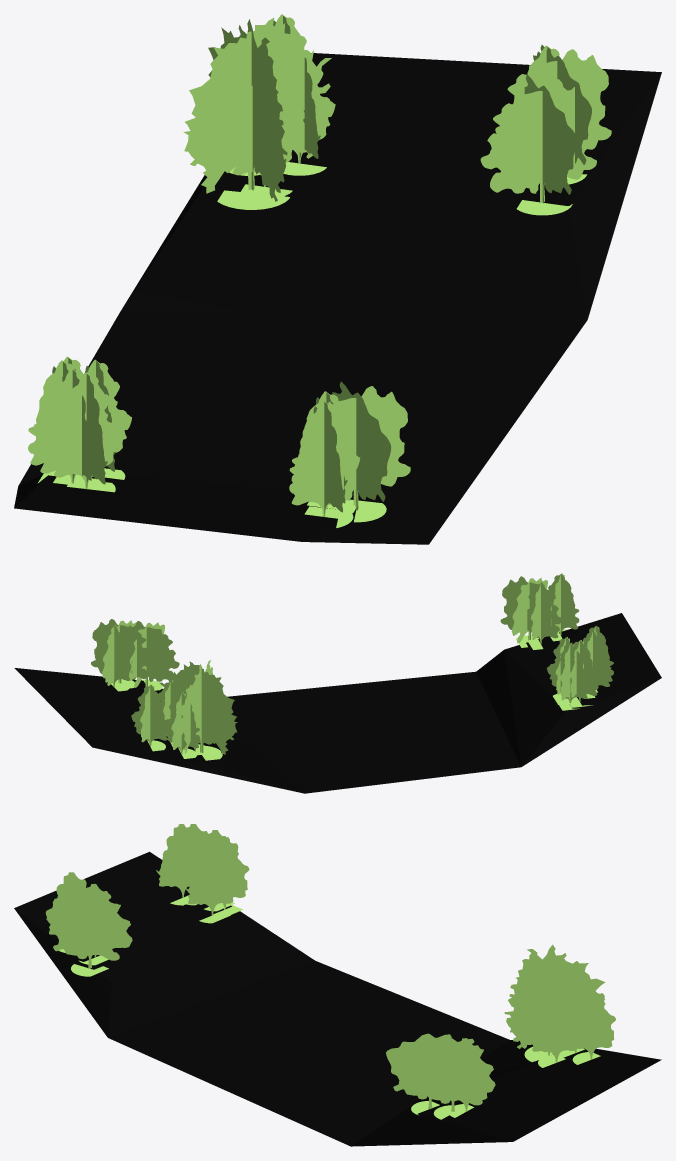
Rendered from bridge3_environment.obj.
The picture shows the model from 3 angles, top to bottom: view 1: azimuth 30°, elevation 25°; view 2: azimuth 150°, elevation 25°; view 3: azimuth 270°, elevation 25°; orthographic projection. The views are drawn at different scales.
Parts seen in each view (by area): view 1: mesh_0, mesh_16, mesh_14, mesh_11, mesh_12, mesh_1, mesh_15, mesh_8, mesh_3, mesh_7, mesh_5, mesh_4; view 2: mesh_0, mesh_16, mesh_14, mesh_15, mesh_11, mesh_10, mesh_6, mesh_2, mesh_13, mesh_9, mesh_12, mesh_4 (+3 smaller); view 3: mesh_0, mesh_11, mesh_16, mesh_10, mesh_13, mesh_5, mesh_15, mesh_7, mesh_1, mesh_14, mesh_2, mesh_8 (+2 smaller).
Boxes of the visible parts, x1=… form: mesh_0: x1=14, y1=53, x2=661, y2=544; mesh_16: x1=183, y1=17, x2=331, y2=209; mesh_14: x1=480, y1=74, x2=596, y2=215; mesh_11: x1=294, y1=381, x2=410, y2=522; mesh_12: x1=289, y1=400, x2=360, y2=527; mesh_1: x1=51, y1=372, x2=122, y2=492; mesh_15: x1=495, y1=45, x2=611, y2=184; mesh_8: x1=230, y1=74, x2=301, y2=199; mesh_3: x1=38, y1=368, x2=100, y2=484; mesh_7: x1=283, y1=50, x2=335, y2=175; mesh_5: x1=85, y1=359, x2=131, y2=479; mesh_4: x1=28, y1=360, x2=91, y2=482; mesh_0: x1=14, y1=613, x2=661, y2=793; mesh_16: x1=159, y1=660, x2=237, y2=760; mesh_14: x1=129, y1=621, x2=179, y2=690; mesh_15: x1=91, y1=619, x2=152, y2=688; mesh_11: x1=500, y1=576, x2=562, y2=647; mesh_10: x1=131, y1=684, x2=168, y2=751; mesh_6: x1=527, y1=582, x2=559, y2=649; mesh_2: x1=551, y1=643, x2=588, y2=710; mesh_13: x1=95, y1=625, x2=132, y2=691; mesh_9: x1=164, y1=692, x2=200, y2=758; mesh_12: x1=548, y1=573, x2=579, y2=641; mesh_4: x1=567, y1=640, x2=598, y2=707; mesh_0: x1=14, y1=851, x2=661, y2=1146; mesh_11: x1=45, y1=893, x2=132, y2=976; mesh_16: x1=504, y1=944, x2=605, y2=1062; mesh_10: x1=564, y1=986, x2=615, y2=1064; mesh_13: x1=439, y1=1038, x2=490, y2=1117; mesh_5: x1=185, y1=842, x2=236, y2=923; mesh_15: x1=408, y1=1038, x2=495, y2=1119; mesh_7: x1=530, y1=989, x2=577, y2=1067; mesh_1: x1=156, y1=824, x2=201, y2=905; mesh_14: x1=386, y1=1033, x2=451, y2=1115; mesh_2: x1=212, y1=836, x2=249, y2=917; mesh_8: x1=522, y1=982, x2=561, y2=1061.
Size of the model in its own units: 102 by 23.89 by 95.99.
